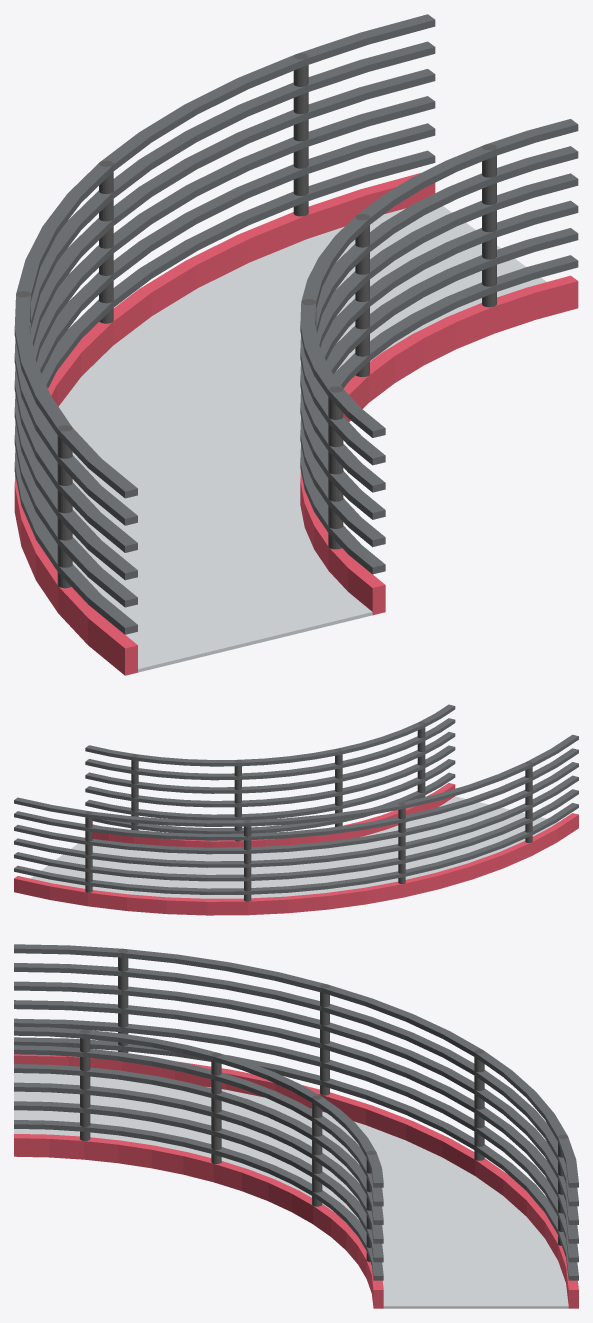
The model's file is large_corner.glb.
3 views of the same model, one above another, from view 1: azimuth 30°, elevation 25°; view 2: azimuth 150°, elevation 25°; view 3: azimuth 270°, elevation 25° (orthographic). The views are drawn at different scales.
Parts seen in each view (by area): view 1: obj_0; view 2: obj_0; view 3: obj_0.
Boxes of the visible parts, left/top/right/bottom form: obj_0: left=14, top=14, right=578, bottom=675; obj_0: left=14, top=704, right=578, bottom=915; obj_0: left=14, top=944, right=578, bottom=1308.
Bounding box in the file's own units: 55 × 13.5 × 55.
